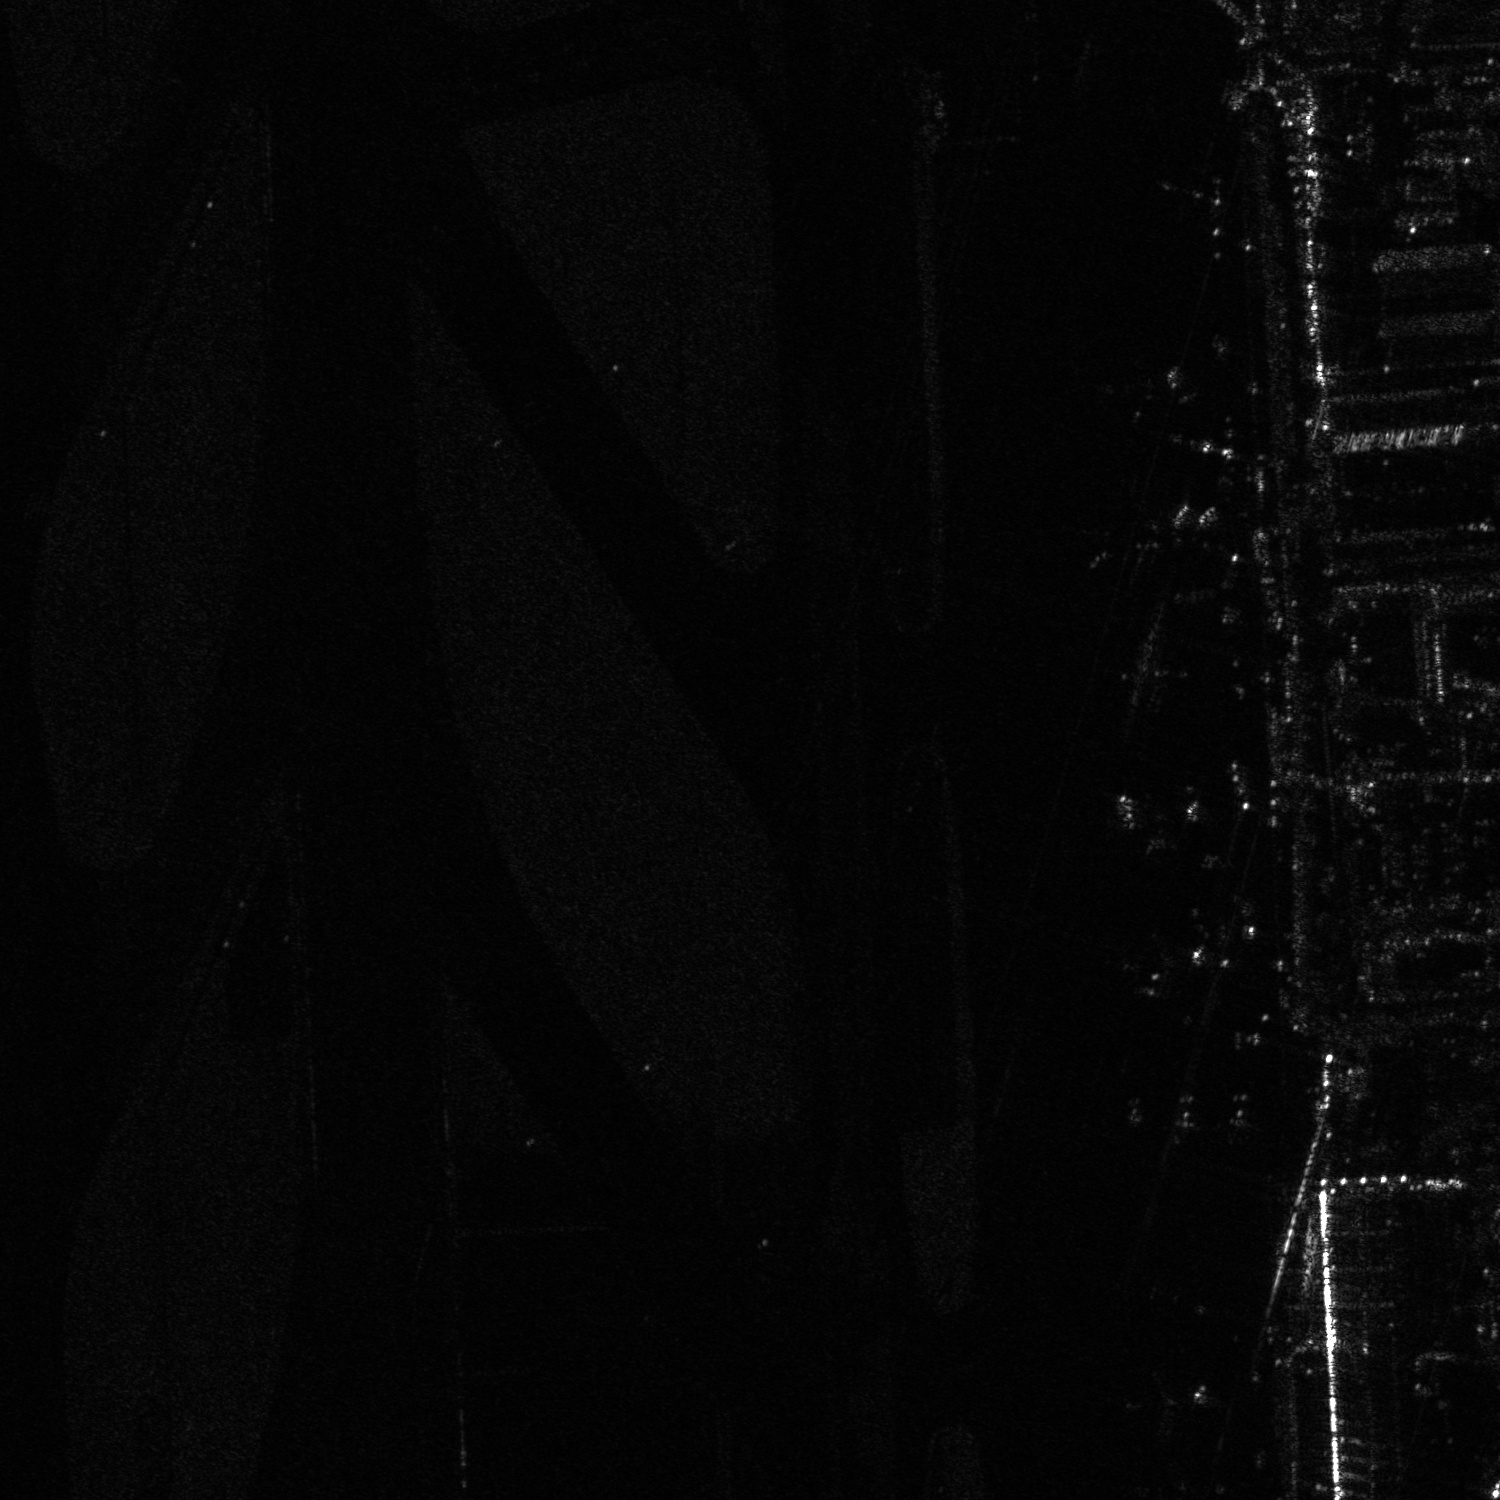A220: (1115, 1371, 1214, 1435)
other: (1217, 1093, 1261, 1147), (1169, 1096, 1205, 1146)
